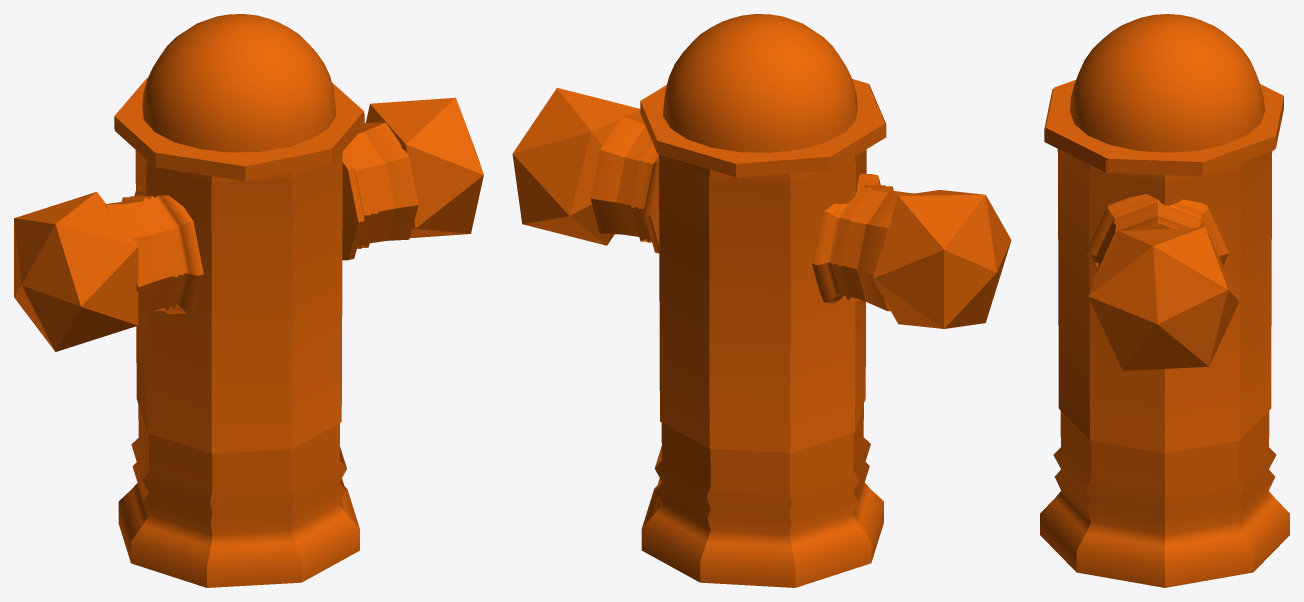
Rendered from hydrant.fbx.
3 views of the same model, side by side, from view 1: azimuth 30°, elevation 25°; view 2: azimuth 150°, elevation 25°; view 3: azimuth 270°, elevation 25° (orthographic).
Visible parts, largest first — view 1: polySurface4, polySurface6, polySurface2, polySurface5, polySurface1, polySurface3, polySurface8, polySurface7; view 2: polySurface4, polySurface6, polySurface2, polySurface5, polySurface3, polySurface1, polySurface8, polySurface7; view 3: polySurface4, polySurface6, polySurface5, polySurface8, polySurface1, polySurface7.
Part boxes in pixels (x1,y1,x2,y2): polySurface4: (118,150,359,587); polySurface6: (142,14,336,152); polySurface2: (14,192,138,351); polySurface5: (366,97,483,238); polySurface1: (342,122,418,260); polySurface3: (105,185,203,317); polySurface8: (114,78,363,168); polySurface7: (115,113,364,181); polySurface4: (641,149,883,587); polySurface6: (663,14,857,152); polySurface2: (872,190,1011,328); polySurface5: (512,87,641,245); polySurface3: (812,173,914,311); polySurface1: (590,115,659,253); polySurface8: (640,79,885,176); polySurface7: (658,84,886,177); polySurface4: (1040,149,1289,587); polySurface6: (1069,14,1264,152); polySurface5: (1088,227,1239,370); polySurface8: (1046,80,1283,174); polySurface1: (1087,194,1228,283); polySurface7: (1044,88,1273,176).
Bounding box in the file's own units: 0.5593 × 0.5952 × 0.2629.
